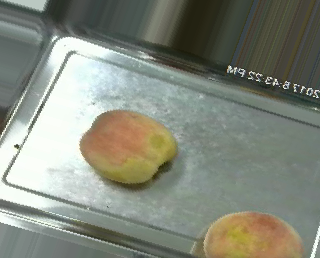Peach: (80, 109, 177, 184), (198, 210, 304, 256)
